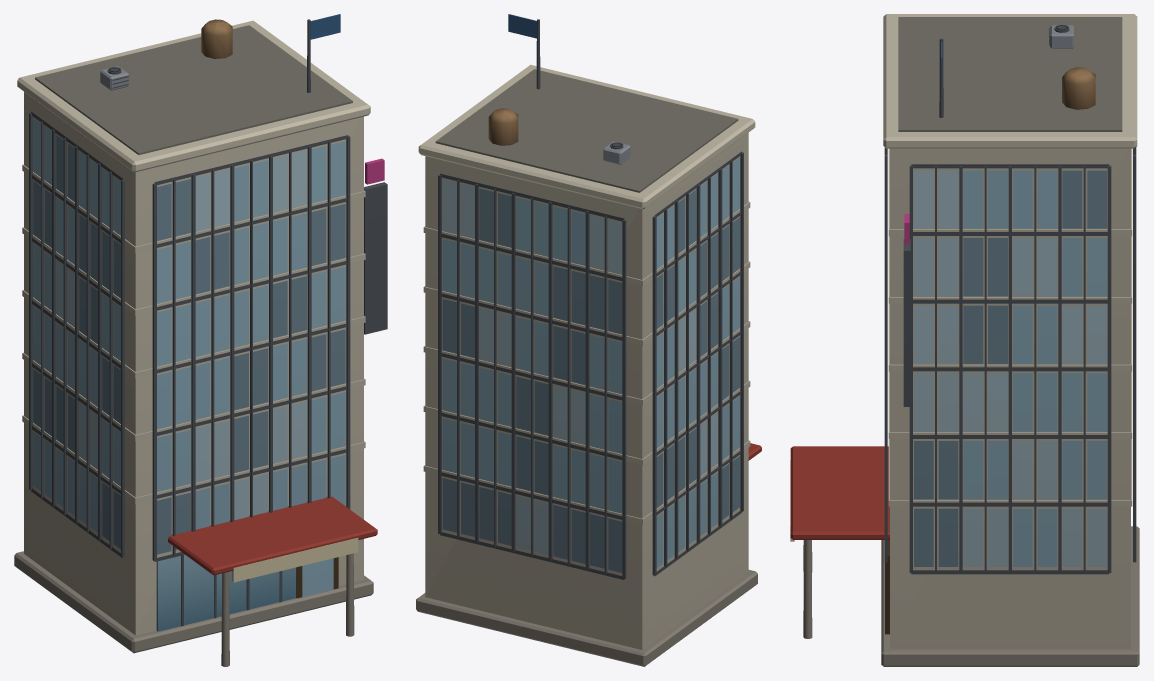
Rendered from boutique_hotel_01.glb.
3 views of the same model, side by side, from view 1: azimuth 30°, elevation 25°; view 2: azimuth 150°, elevation 25°; view 3: azimuth 270°, elevation 25° (orthographic). The views are drawn at different scales.
Parts seen in each view (by area): view 1: boutique_hotel_01; view 2: boutique_hotel_01; view 3: boutique_hotel_01.
Part boxes in pixels (box(x1,y1,x2,y2)): boutique_hotel_01: box(14, 14, 387, 666); boutique_hotel_01: box(416, 14, 761, 666); boutique_hotel_01: box(790, 14, 1139, 666).
Bounding box in the file's own units: 7.67 × 15.6 × 8.11.
